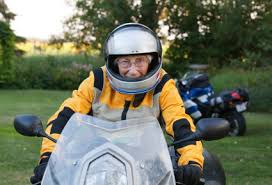helmet: (100, 23, 168, 92)
